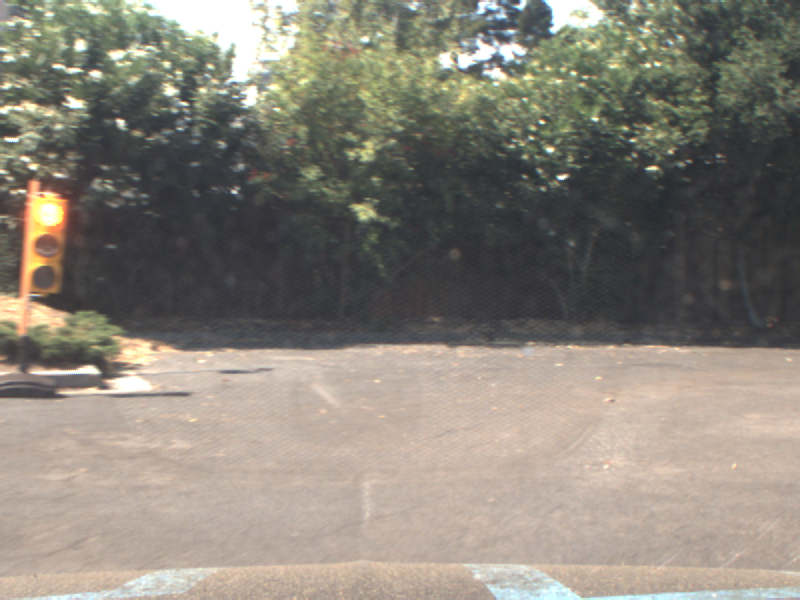red: (23, 184, 68, 295)
